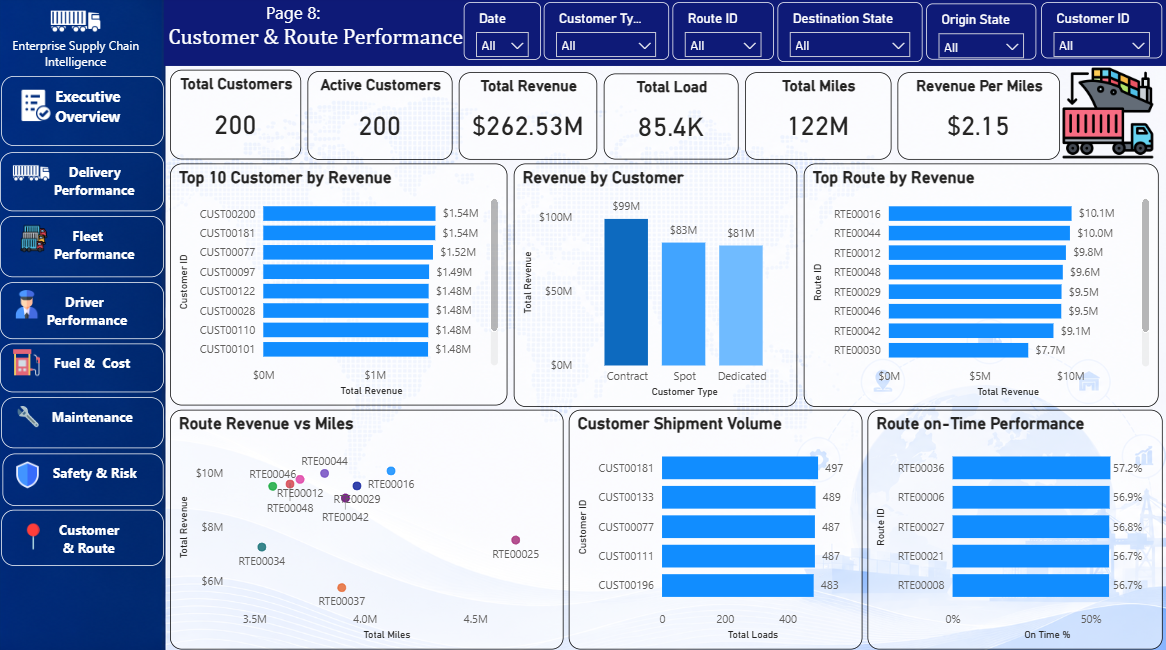

Layout of this report page (visuals, bound fields, positions):
{"tool":"powerbi","page":{"name":"Customer & Route","canvas":[1280,720],"ordinal":7},"visuals":[{"type":"card","title":"Total Customers","fields":{"Values":["All Measures.Total Customers"]},"box":[186.6,81,144.1,98.8],"z":0,"group":"g10"},{"type":"group","id":"g1","title":"Group 1","box":[0,171.9,179.8,64.5],"z":0},{"type":"textbox","box":[2.7,502.6,177,57.6],"z":0,"group":"g4"},{"type":"image","box":[1.4,0,163.3,54.9],"z":1000,"group":"g3"},{"type":"card","title":"Active Customers","fields":{"Values":["All Measures.Active Customers"]},"box":[337.5,82.4,159.2,97.4],"z":1000,"group":"g10"},{"type":"group","id":"g2","title":"Group 3","box":[1.4,88.3,178.4,76.8],"z":1000},{"type":"image","box":[10.9,510.8,38.4,30.2],"z":1000,"group":"g4"},{"type":"group","id":"g3","title":"Group 4","box":[1.4,0,163.3,87.8],"z":2000},{"type":"textbox","box":[1.4,40.3,163.3,47.6],"z":2000,"group":"g3"},{"type":"card","title":"Total Load","fields":{"Values":["All Measures.Total Loads"]},"box":[662.8,85.1,148.2,94.7],"z":2000,"group":"g10"},{"type":"card","title":"Revenue Per Miles","fields":{"Values":["All Measures.Revenue Per Miles"]},"box":[985.2,83.7,178.4,96.1],"z":3000,"group":"g10"},{"type":"group","id":"g4","title":"Group 7","box":[2.7,502.6,177,57.6],"z":3000},{"type":"textbox","box":[1.4,564.4,178.4,61.7],"z":3000,"group":"g6"},{"type":"card","title":"Total Miles","fields":{"Values":["All Measures.Total Miles"]},"box":[817.8,83.7,160.5,96.1],"z":4000,"group":"g10"},{"type":"group","id":"g5","title":"Group 8","box":[1.4,440.9,178.4,56.3],"z":4000},{"type":"textbox","box":[1.4,440.9,178.4,56.3],"z":4000,"group":"g5"},{"type":"card","title":"Total Revenue","fields":{"Values":["All Measures.Total Revenue"]},"box":[503.6,83.7,152.3,96.1],"z":5000,"group":"g10"},{"type":"textbox","box":[0,382,179.8,53.4],"z":5000,"group":"g7"},{"type":"group","id":"g6","title":"Group 9","box":[1.4,564.4,178.4,61.7],"z":5000},{"type":"textbox","box":[1.4,88.3,178.4,76.8],"z":6000,"group":"g2"},{"type":"textbox","box":[0,314.2,179.8,62.5],"z":6000,"group":"g9"},{"type":"group","id":"g7","title":"Group 10","box":[0,380.5,179.8,54.9],"z":6000},{"type":"group","id":"g8","title":"Group 11","box":[0,241.8,179.8,67.2],"z":7000},{"type":"group","id":"g9","title":"Group 12","box":[0,314.2,179.8,62.5],"z":8000},{"type":"textbox","box":[179.8,0,1100.5,76.8],"z":9000},{"type":"image","box":[1152.7,76.8,127.6,102.9],"z":10000},{"type":"textbox","box":[0,241.8,179.8,67.2],"z":10000,"group":"g8"},{"type":"group","id":"g10","title":"Group 2","box":[186.6,81,977,98.8],"z":11000},{"type":"slicer","fields":{"Values":["DimCustomers.customer_type"]},"box":[596.9,6.9,137.2,63.1],"z":12000},{"type":"clusteredBarChart","title":"Top 10 Customer by Revenue","fields":{"Y":["All Measures.Total Revenue"],"Category":["DimCustomers.customer_id"]},"box":[186.6,185.1,370.5,265.8],"z":12000,"group":"g11"},{"type":"slicer","fields":{"Values":["DimRoutes.route_id"]},"box":[738.3,6.9,111.1,63.1],"z":13000},{"type":"textbox","box":[0,171.9,179.8,64.5],"z":13000,"group":"g13"},{"type":"clusteredColumnChart","title":"Revenue by Customer","fields":{"Category":["DimCustomers.customer_type"],"Y":["All Measures.Total Revenue"]},"box":[564,184.4,311.5,266.9],"z":13000,"group":"g11"},{"type":"image","box":[15.5,102.8,48.5,34.8],"z":13003,"group":"g2"},{"type":"image","box":[1.4,174.6,65.9,39.8],"z":13007,"group":"g13"},{"type":"slicer","fields":{"Values":["DimRoutes.destination_state"]},"box":[853.5,6.9,159.2,65.9],"z":14000},{"type":"clusteredBarChart","title":"Top Route by Revenue","fields":{"Y":["All Measures.Total Revenue"],"Category":["DimRoutes.route_id"]},"box":[882.3,185.1,389.7,266.9],"z":14000,"group":"g11"},{"type":"slicer","fields":{"Values":["Dim_Date.Date Hierarchy.Date","Dim_Date.Date Hierarchy.Year","Dim_Date.Date Hierarchy.Month Name"]},"box":[509.1,6.9,85.1,63.1],"z":15000},{"type":"scatterChart","title":"Route Revenue vs Miles","fields":{"X":["All Measures.Total Miles"],"Y":["All Measures.Total Revenue"],"Series":["DimRoutes.route_id"]},"box":[186.6,454.8,432.2,263.5],"z":15000,"group":"g12"},{"type":"slicer","fields":{"Values":["DimRoutes.origin_state"]},"box":[1016.8,8.2,120.8,61.7],"z":16000},{"type":"clusteredBarChart","title":"Customer Shipment Volume","fields":{"Y":["All Measures.Total Loads"],"Category":["DimCustomers.customer_id"]},"box":[624.3,454.8,322.5,263.5],"z":16000,"group":"g12"},{"type":"slicer","fields":{"Values":["DimCustomers.customer_id"]},"box":[1143.1,6.9,133.1,61.7],"z":17000},{"type":"clusteredBarChart","title":"Route on-Time Performance","fields":{"Y":["All Measures.OnTime %"],"Category":["DimRoutes.route_id"]},"box":[952.3,454.8,323.8,263.5],"z":17000,"group":"g12"},{"type":"group","id":"g11","title":"Group 13","box":[186.6,184.4,1085.4,267.6],"z":18000},{"type":"group","id":"g12","title":"Group 6","box":[186.6,454.8,1089.5,263.5],"z":19000},{"type":"group","id":"g13","title":"Group 5","box":[0,171.9,179.8,64.5],"z":27001,"group":"g1"},{"type":"image","box":[13.7,450.5,34.3,23.3],"z":27002,"group":"g5"},{"type":"image","box":[13.7,315.6,31.6,45.3],"z":27006,"group":"g9"},{"type":"image","box":[2.7,251.4,68.6,30.2],"z":27007,"group":"g8"},{"type":"image","box":[20.6,579.3,32,29.2],"z":27008,"group":"g6"},{"type":"image","box":[12.7,380.5,33.3,44],"z":27010,"group":"g7"}]}

Visuals, with their boxes on the page's 1280x720 design canvas (x1, y1, x2, y2). These are canvas units, not pixel positions in the 1166x650 screenshot, which may show the page scaled, cropped or inside an application window:
"Total Customers" card: select_region(187, 81, 331, 180)
"Group 1" group: select_region(0, 172, 180, 236)
textbox: select_region(3, 503, 180, 560)
image: select_region(1, 0, 165, 55)
"Active Customers" card: select_region(338, 82, 497, 180)
"Group 3" group: select_region(1, 88, 180, 165)
image: select_region(11, 511, 49, 541)
"Group 4" group: select_region(1, 0, 165, 88)
textbox: select_region(1, 40, 165, 88)
"Total Load" card: select_region(663, 85, 811, 180)
"Revenue Per Miles" card: select_region(985, 84, 1164, 180)
"Group 7" group: select_region(3, 503, 180, 560)
textbox: select_region(1, 564, 180, 626)
"Total Miles" card: select_region(818, 84, 978, 180)
"Group 8" group: select_region(1, 441, 180, 497)
textbox: select_region(1, 441, 180, 497)
"Total Revenue" card: select_region(504, 84, 656, 180)
textbox: select_region(0, 382, 180, 435)
"Group 9" group: select_region(1, 564, 180, 626)
textbox: select_region(1, 88, 180, 165)
textbox: select_region(0, 314, 180, 377)
"Group 10" group: select_region(0, 380, 180, 435)
"Group 11" group: select_region(0, 242, 180, 309)
"Group 12" group: select_region(0, 314, 180, 377)
textbox: select_region(180, 0, 1280, 77)
image: select_region(1153, 77, 1280, 180)
textbox: select_region(0, 242, 180, 309)
"Group 2" group: select_region(187, 81, 1164, 180)
slicer - DimCustomers.customer_type: select_region(597, 7, 734, 70)
"Top 10 Customer by Revenue" clusteredBarChart: select_region(187, 185, 557, 451)
slicer - DimRoutes.route_id: select_region(738, 7, 849, 70)
textbox: select_region(0, 172, 180, 236)
"Revenue by Customer" clusteredColumnChart: select_region(564, 184, 876, 451)
image: select_region(16, 103, 64, 138)
image: select_region(1, 175, 67, 214)
slicer - DimRoutes.destination_state: select_region(854, 7, 1013, 73)
"Top Route by Revenue" clusteredBarChart: select_region(882, 185, 1272, 452)
slicer - Dim_Date.Date Hierarchy.Date x Dim_Date.Date Hierarchy.Year: select_region(509, 7, 594, 70)
"Route Revenue vs Miles" scatterChart: select_region(187, 455, 619, 718)
slicer - DimRoutes.origin_state: select_region(1017, 8, 1138, 70)
"Customer Shipment Volume" clusteredBarChart: select_region(624, 455, 947, 718)
slicer - DimCustomers.customer_id: select_region(1143, 7, 1276, 69)
"Route on-Time Performance" clusteredBarChart: select_region(952, 455, 1276, 718)
"Group 13" group: select_region(187, 184, 1272, 452)
"Group 6" group: select_region(187, 455, 1276, 718)
"Group 5" group: select_region(0, 172, 180, 236)
image: select_region(14, 450, 48, 474)
image: select_region(14, 316, 45, 361)
image: select_region(3, 251, 71, 282)
image: select_region(21, 579, 53, 608)
image: select_region(13, 380, 46, 424)
